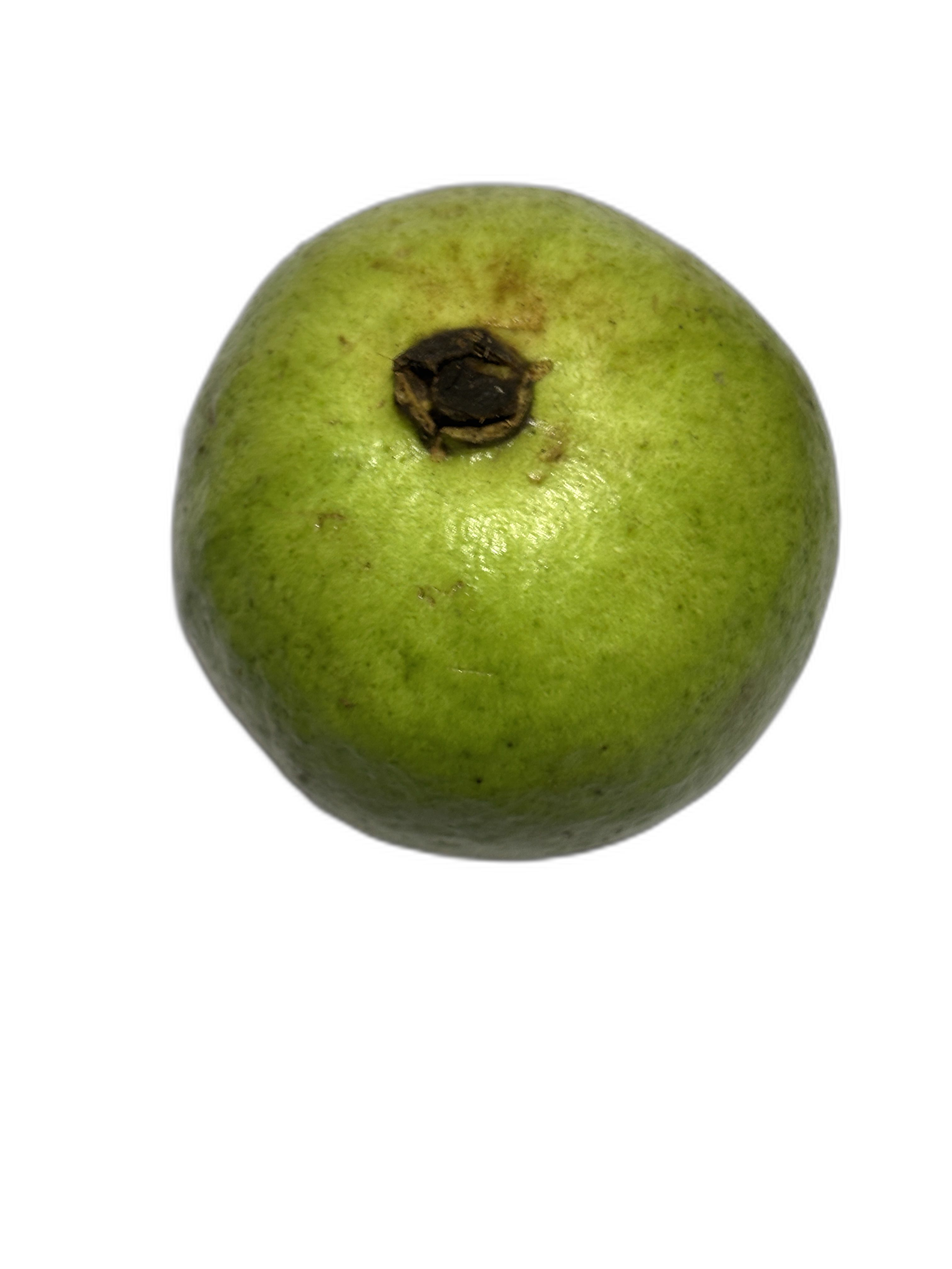guava: (90, 210, 840, 1073)
